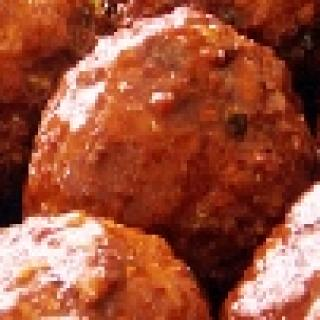meatball: (0, 3, 320, 320)
